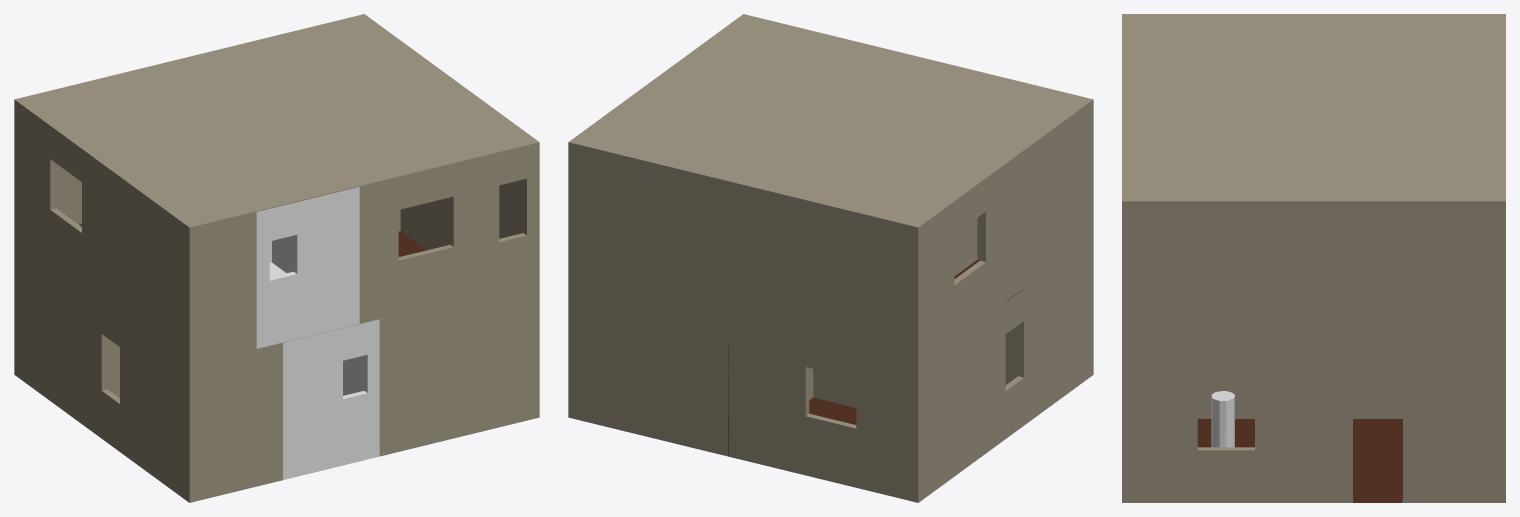
The model's file is HouseTest.glb.
The picture shows the model from 3 angles, left to right: view 1: azimuth 30°, elevation 25°; view 2: azimuth 150°, elevation 25°; view 3: azimuth 270°, elevation 25°; orthographic projection. The views are drawn at different scales.
Parts seen in each view (by area): view 1: Roof, Room_Floor1, Pantry, Bedroom_Character, Bedroom_Parents, Closet, Bathroom_Floor2, Bathroom_Floor1, Kitchen, Room_Floor2, Hallway, Floor; view 2: Roof, Kitchen, Bedroom_Parents, Room_Floor2, Room_Floor1, Pantry, Closet, Hallway; view 3: Roof, Room_Floor2, Room_Floor1, Character_Model.
Boxes of the visible parts, x1,y1,x2,y2 form: Roof: (14, 14, 539, 228); Room_Floor1: (379, 280, 539, 456); Pantry: (123, 317, 282, 502); Bedroom_Character: (359, 155, 488, 323); Bedroom_Parents: (14, 100, 138, 328); Closet: (139, 191, 256, 365); Bathroom_Floor2: (256, 187, 359, 348); Bathroom_Floor1: (283, 319, 379, 479); Kitchen: (14, 238, 97, 435); Room_Floor2: (488, 143, 539, 292); Hallway: (98, 299, 123, 453); Floor: (15, 224, 539, 365); Roof: (568, 14, 1093, 228); Kitchen: (728, 305, 1001, 502); Bedroom_Parents: (796, 137, 1042, 365); Room_Floor2: (568, 143, 795, 335); Room_Floor1: (568, 280, 728, 456); Pantry: (1027, 238, 1093, 422); Closet: (1043, 100, 1093, 274); Hallway: (1002, 286, 1027, 441); Roof: (1122, 14, 1505, 201); Room_Floor2: (1122, 202, 1505, 352); Room_Floor1: (1122, 352, 1505, 502); Character_Model: (1211, 391, 1234, 447).
Bounding box in the file's own units: 7.73 × 5.81 × 6.7.
9 materials, 9 textured.
